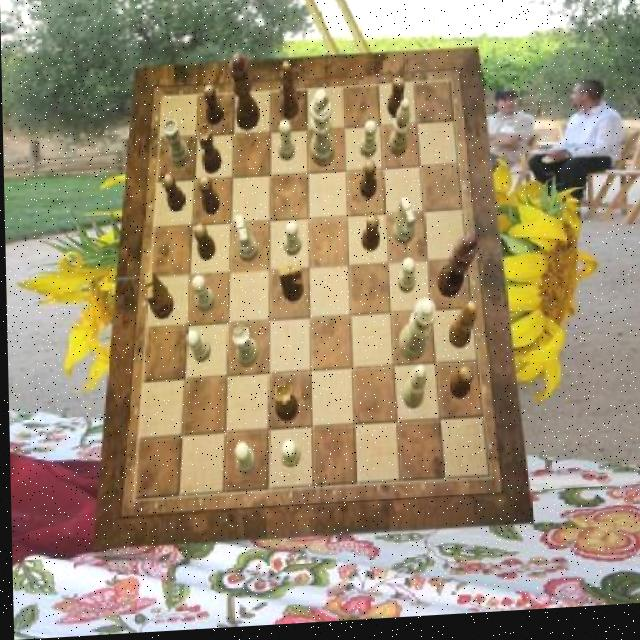bishop: (446, 307, 477, 354), (280, 64, 300, 124)
black-bishop: (436, 238, 477, 304)
black-king: (143, 272, 173, 323), (277, 268, 302, 308)
black-knight: (162, 176, 185, 215), (447, 370, 471, 406), (203, 86, 223, 129), (199, 178, 220, 217), (193, 226, 215, 263), (386, 81, 405, 122), (359, 220, 378, 256), (359, 164, 376, 204)
black-pawn: (229, 56, 260, 136)
black-queen: (196, 125, 221, 177), (273, 386, 297, 426)
black-rook: (387, 103, 411, 161), (401, 370, 426, 415)
white-bishop: (309, 92, 335, 171)
white-king: (235, 217, 259, 266), (391, 201, 415, 250)
white-knight: (184, 332, 209, 367), (190, 278, 213, 315), (232, 444, 254, 479), (276, 123, 294, 165), (358, 124, 376, 163), (396, 262, 414, 299), (283, 225, 301, 260), (279, 444, 299, 472)
white-pawn: (397, 301, 437, 366)
white-queen: (162, 122, 190, 171), (230, 327, 257, 370)
